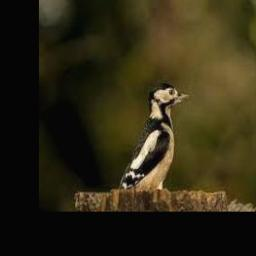Woodpecker: (119, 84, 191, 190)
